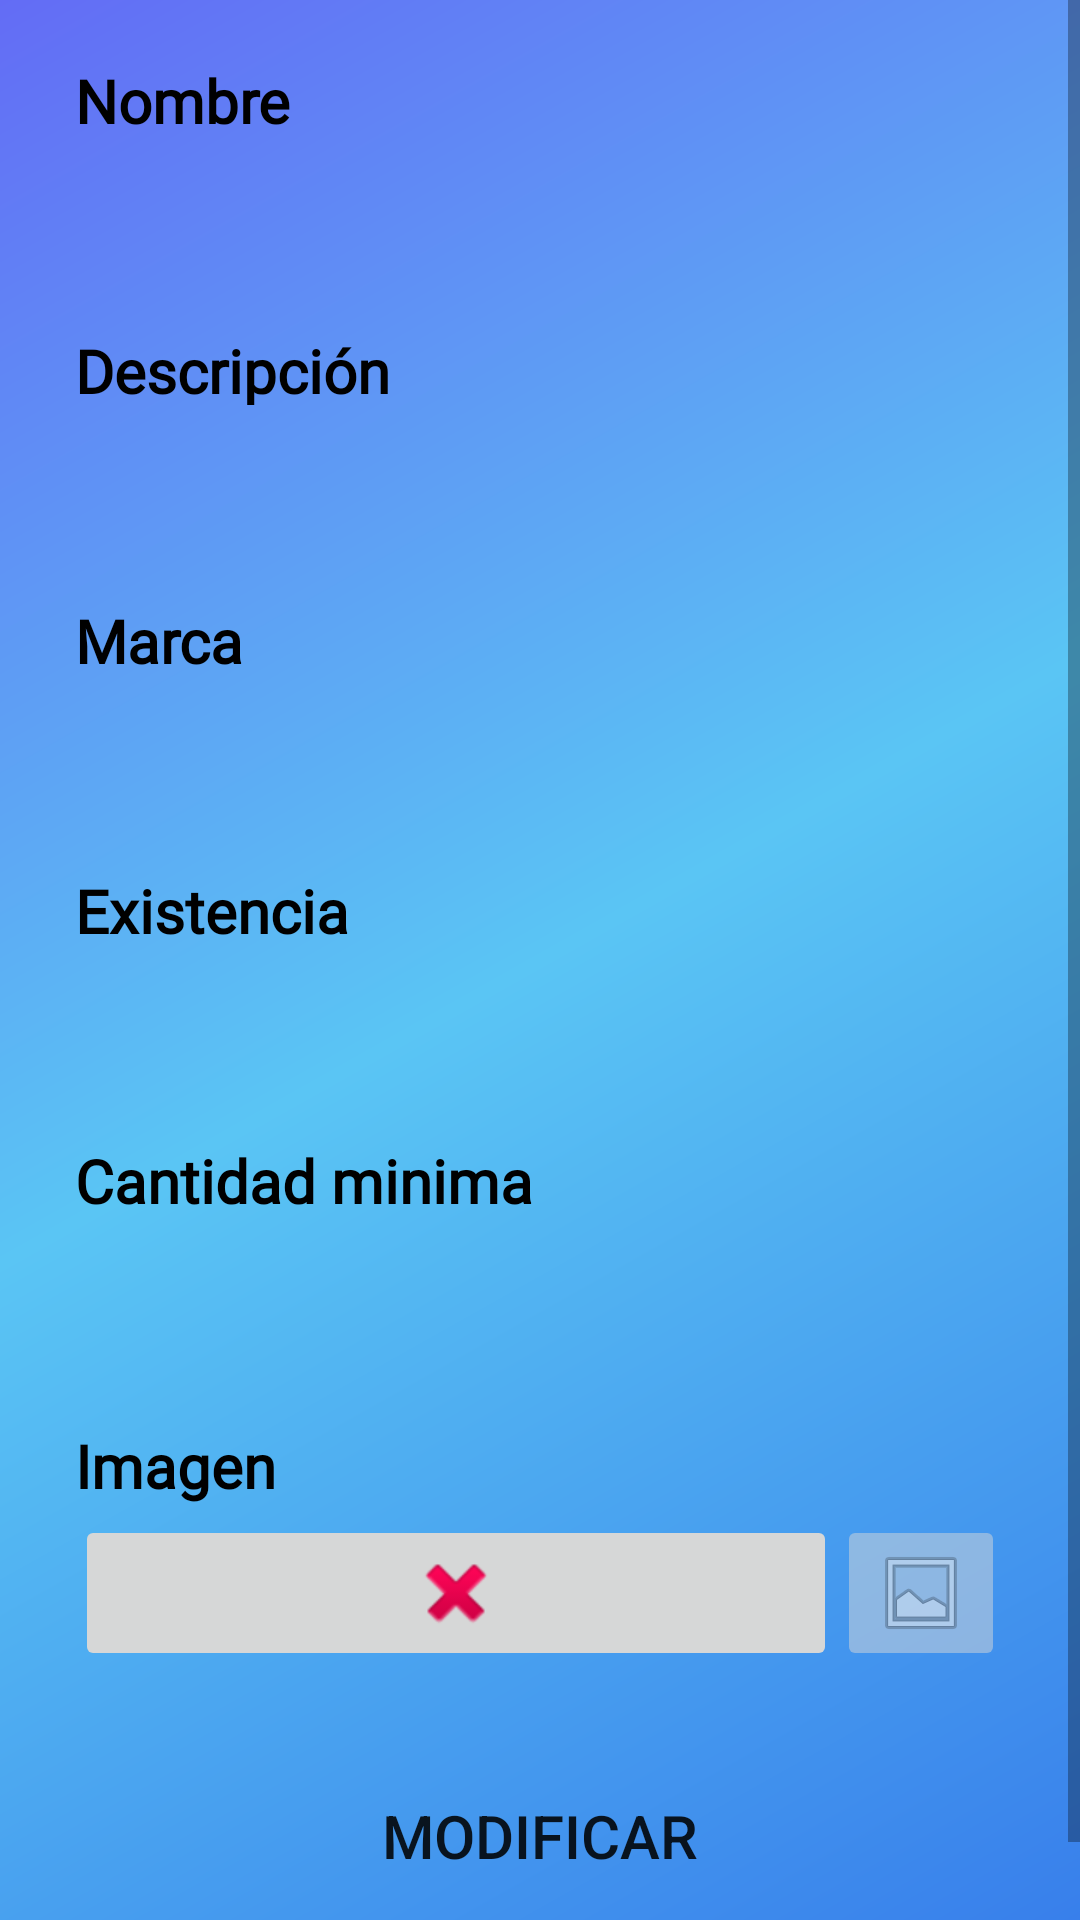

Where to tap for icons on this 1080 × 1920 app screen, as (x,y):
gallery: (921,1593)
